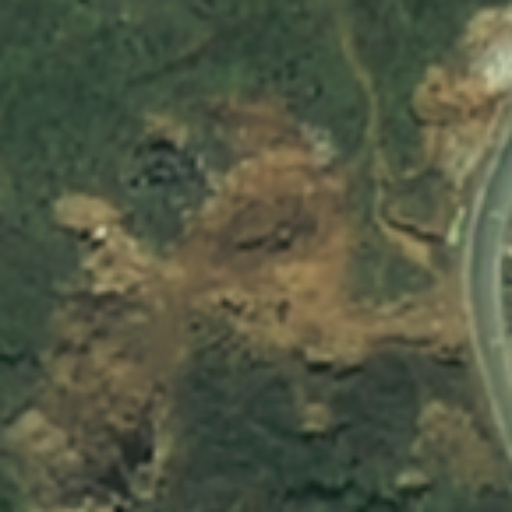landslide: (172, 94, 469, 357)
